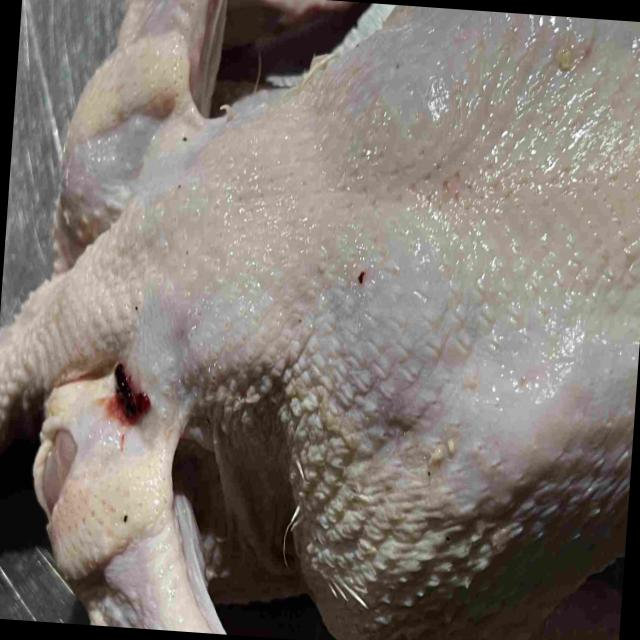back: (185, 120, 640, 532)
leg: (376, 5, 640, 97), (335, 559, 622, 640)
neck: (0, 246, 168, 439)
wing: (59, 0, 370, 247), (38, 383, 225, 634)
